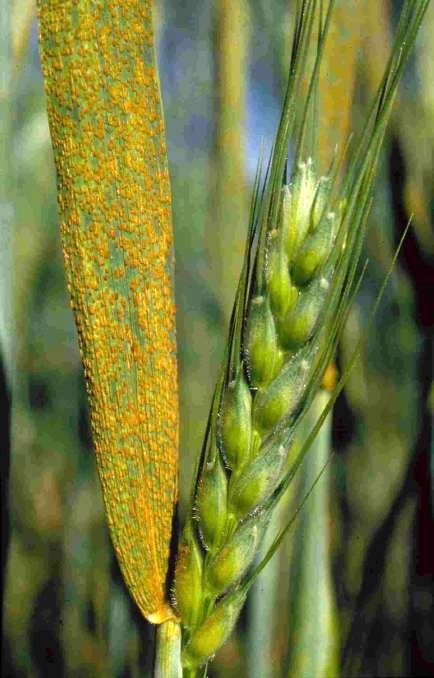Leaf Rust: (43, 16, 177, 587)
